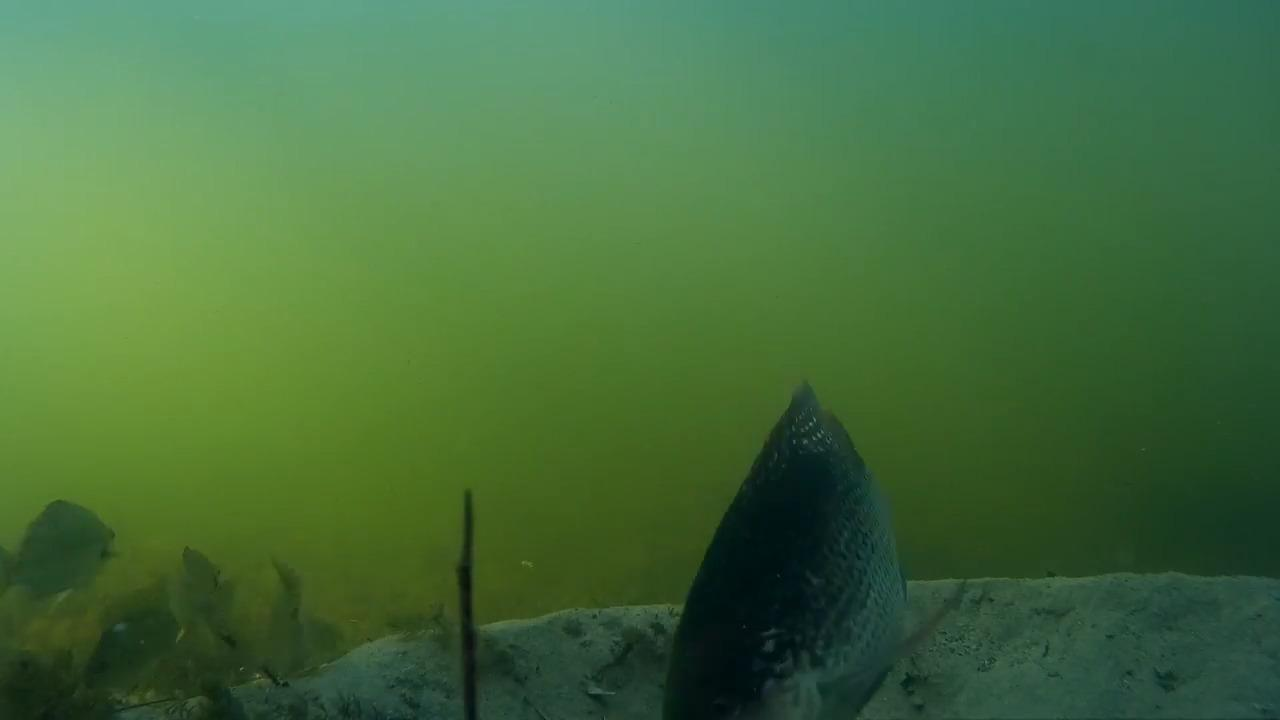Tilapia: (685, 374, 907, 716), (3, 495, 132, 699)
